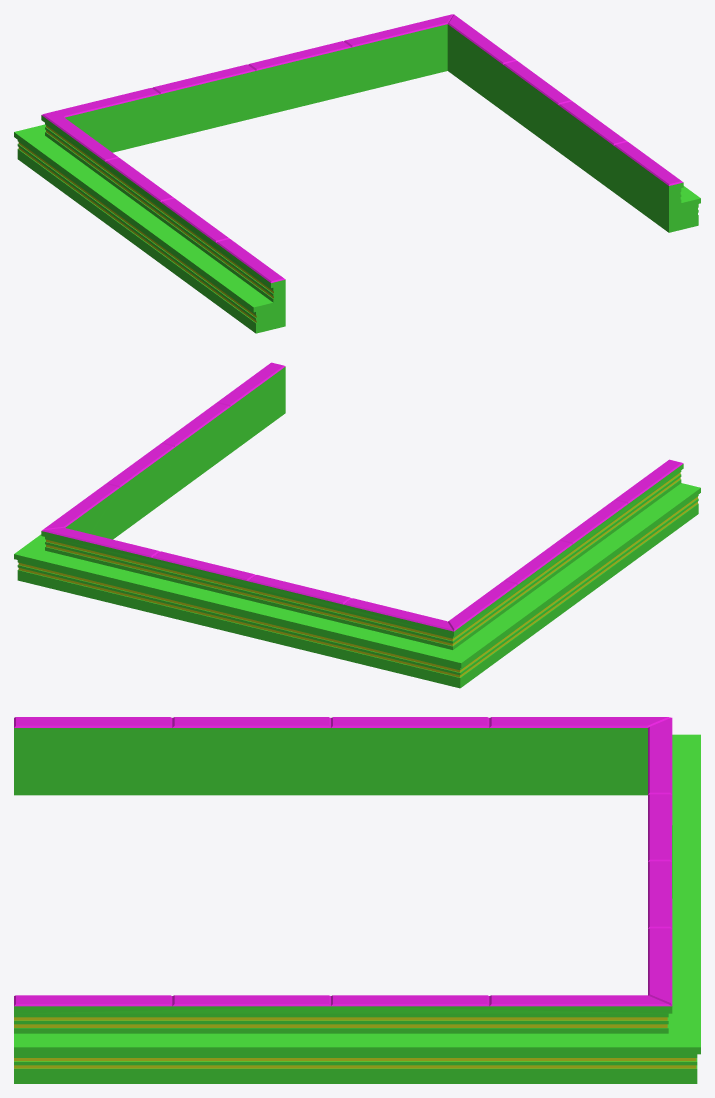
The model's file is Floor_10_Deco_Edge.fbx.
3 views of the same model, one above another, from view 1: azimuth 30°, elevation 25°; view 2: azimuth 150°, elevation 25°; view 3: azimuth 270°, elevation 25° (orthographic). The views are drawn at different scales.
Visible parts, largest first — view 1: Floor_10_Deco_Edge; view 2: Floor_10_Deco_Edge; view 3: Floor_10_Deco_Edge.
Boxes of the visible parts, bbox=[...] form: Floor_10_Deco_Edge: bbox=[14, 14, 700, 333]; Floor_10_Deco_Edge: bbox=[14, 362, 700, 688]; Floor_10_Deco_Edge: bbox=[14, 717, 700, 1083].
Size of the model in its own units: 534 by 54.62 by 495.
